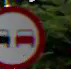No overtake: (1, 4, 50, 67)
